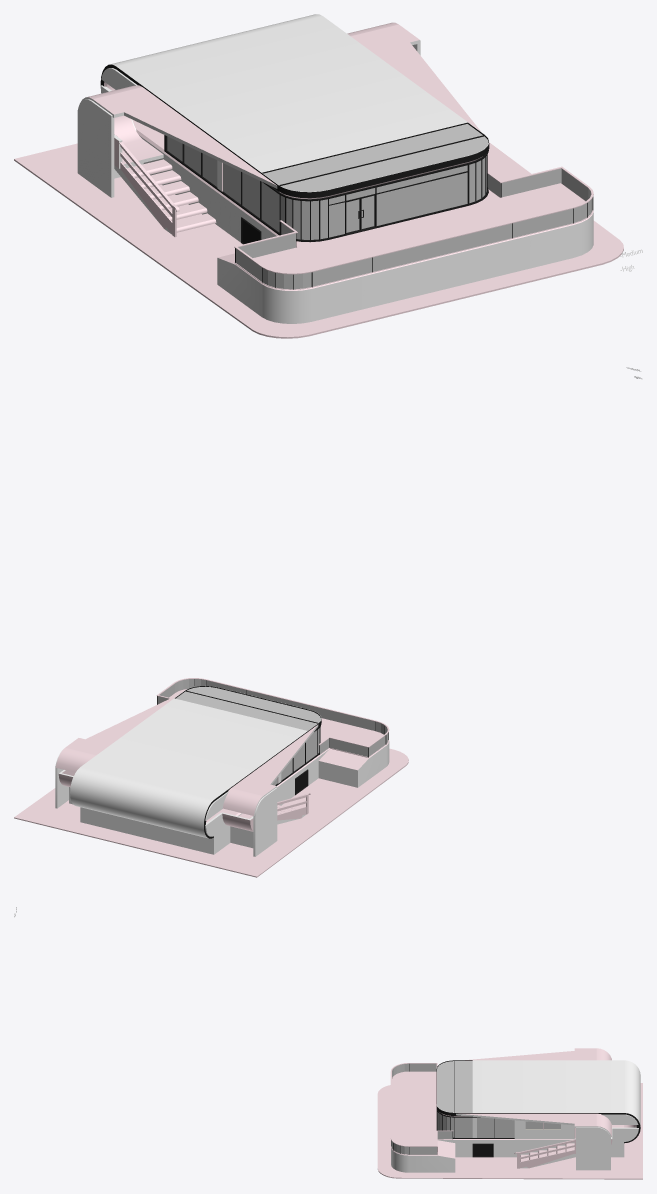
File: building.obj
3 views of the same model, one above another, from view 1: azimuth 30°, elevation 25°; view 2: azimuth 150°, elevation 25°; view 3: azimuth 270°, elevation 25° (orthographic). The views are drawn at different scales.
Parts seen in each view (by area): view 1: Plane.012_Plane.017, Cube.021_Cube.046; view 2: Plane.012_Plane.017, Cube.021_Cube.046; view 3: Plane.012_Plane.017, Cube.021_Cube.046.
Part boxes in pixels (left/top/right/bottom): Plane.012_Plane.017: left=14, top=14, right=623, bottom=338; Cube.021_Cube.046: left=167, top=124, right=592, bottom=289; Plane.012_Plane.017: left=14, top=678, right=408, bottom=877; Cube.021_Cube.046: left=157, top=679, right=388, bottom=785; Plane.012_Plane.017: left=377, top=1048, right=642, bottom=1179; Cube.021_Cube.046: left=391, top=1061, right=560, bottom=1154.
Size of what is drawn, in the model's own units: 24.77 by 21.94 by 68.83.
